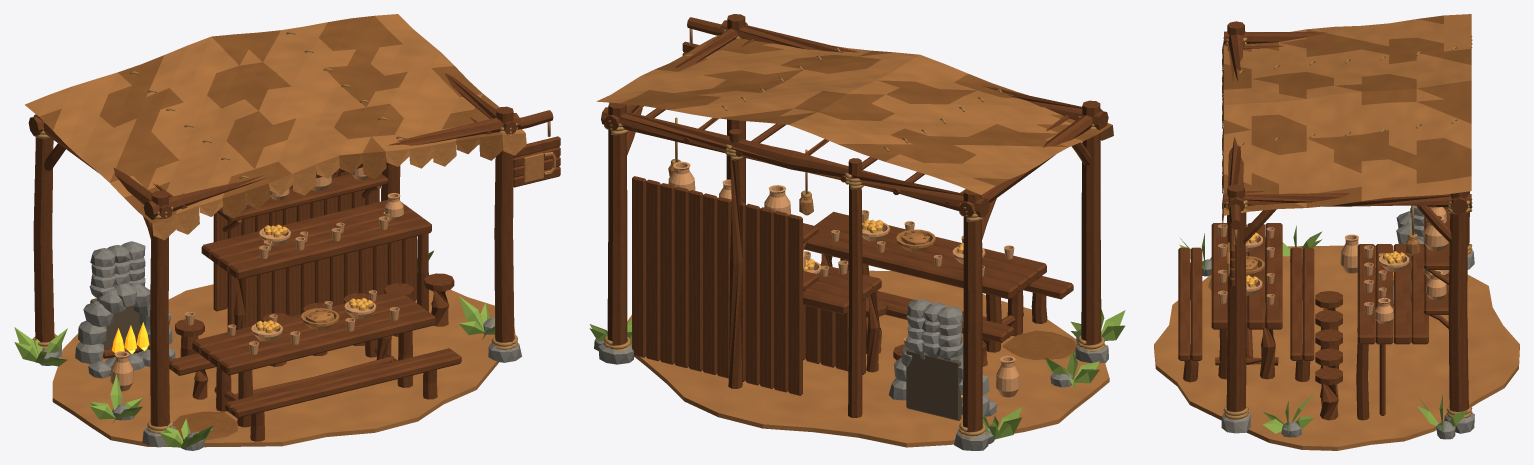
File: tavern.glb
The picture shows the model from 3 angles, left to right: view 1: azimuth 30°, elevation 25°; view 2: azimuth 150°, elevation 25°; view 3: azimuth 270°, elevation 25°; orthographic projection. The views are drawn at different scales.
Visible parts, largest first — view 1: Hide roof (×2), Sandy island, Timber upright, Bar counter front plank, Bar top plank, Feast table top board, Ragged hide edge (×2), Long bench seat, Broad ground leaves, Bar rear wall plank, Fireplace arch stone, Horizontal roof beam (+21 smaller); view 2: Hide roof (×2), Bar rear wall plank, Sandy island, Timber upright, Horizontal roof beam, Feast table top board, Rear tavern post, Hearth dark interior, Fireplace upper masonry, Bar counter front plank, Broad ground leaves, Side roof beam (+15 smaller); view 3: Hide roof (×2), Sandy island, Timber upright, Long bench seat, Bar top plank, Feast table top board, Side roof beam, Stool seat, Horizontal roof beam, Broad ground leaves, Clay cup, Bar storage shelf (+15 smaller).
Boxes of the visible parts, x1,y1,x2,y2 form: Hide roof (×2): (25, 14, 525, 223); Sandy island: (52, 284, 515, 447); Timber upright: (33, 106, 514, 426); Bar counter front plank: (227, 236, 416, 331); Bar top plank: (201, 200, 431, 279); Feast table top board: (192, 290, 435, 375); Ragged hide edge (×2): (152, 133, 526, 240); Long bench seat: (169, 348, 461, 418); Broad ground leaves: (14, 250, 494, 447); Bar rear wall plank: (213, 171, 379, 311); Fireplace arch stone: (75, 282, 172, 363); Horizontal roof beam: (28, 113, 520, 219); Hide roof (×2): (596, 35, 1112, 194); Bar rear wall plank: (632, 176, 802, 395); Sandy island: (627, 268, 1109, 447); Timber upright: (607, 14, 1101, 432); Horizontal roof beam: (601, 20, 1108, 217); Feast table top board: (804, 211, 1046, 299); Rear tavern post: (728, 129, 862, 417); Hearth dark interior: (906, 348, 961, 420); Fireplace upper masonry: (906, 299, 963, 358); Bar counter front plank: (803, 299, 865, 374); Broad ground leaves: (589, 309, 1125, 439); Side roof beam: (604, 22, 1102, 217); Hide roof (×2): (1224, 14, 1471, 215); Sandy island: (1154, 245, 1519, 450); Timber upright: (1226, 21, 1469, 411); Long bench seat: (1178, 247, 1314, 360); Bar top plank: (1357, 244, 1428, 344); Feast table top board: (1211, 223, 1282, 329); Side roof beam: (1224, 31, 1471, 208); Stool seat: (1315, 273, 1393, 385); Horizontal roof beam: (1227, 31, 1468, 214); Broad ground leaves: (1179, 225, 1468, 433); Clay cup: (1218, 224, 1386, 314); Bar storage shelf: (1424, 206, 1450, 314).
Bounding box in the file's own units: 6.03 × 3.64 × 4.51.
12 materials, 6 textured.
